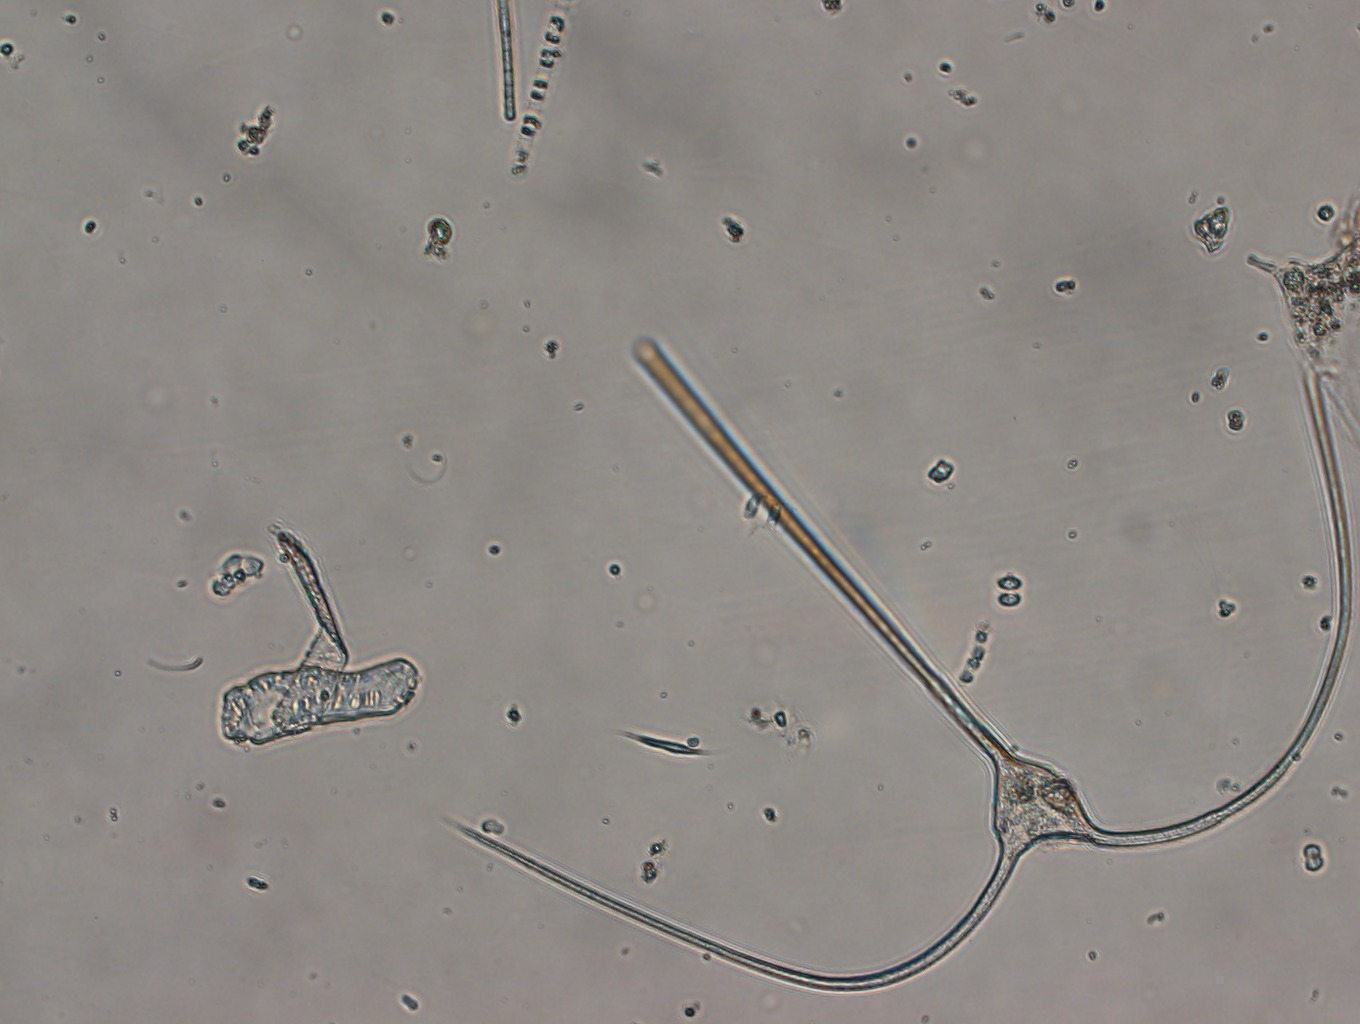ceratium trichoceros: (443, 337, 1349, 994)
skeletonema: (510, 1, 567, 176)
